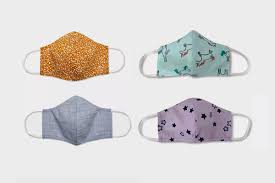cloth_mask: (138, 97, 253, 147), (24, 95, 132, 145)
